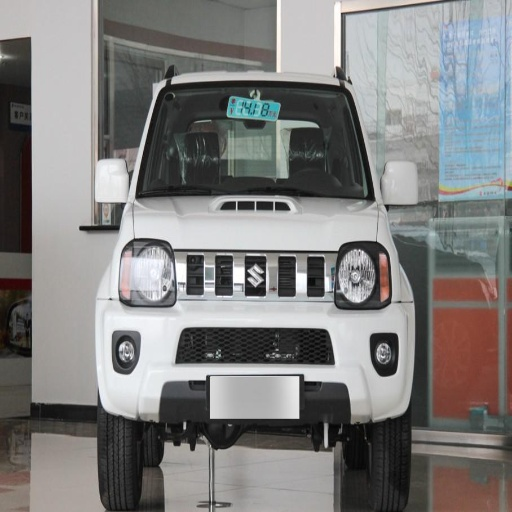front_bumper: (101, 250, 414, 423)
front_right_light: (119, 240, 174, 306)
hood: (133, 196, 378, 250)
left_mirror: (383, 160, 419, 207)
